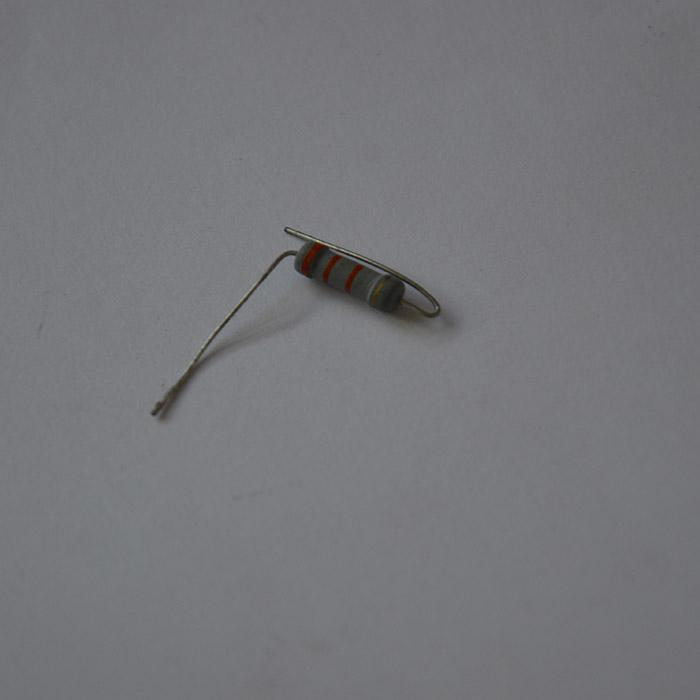resistor: (294, 238, 404, 313)
